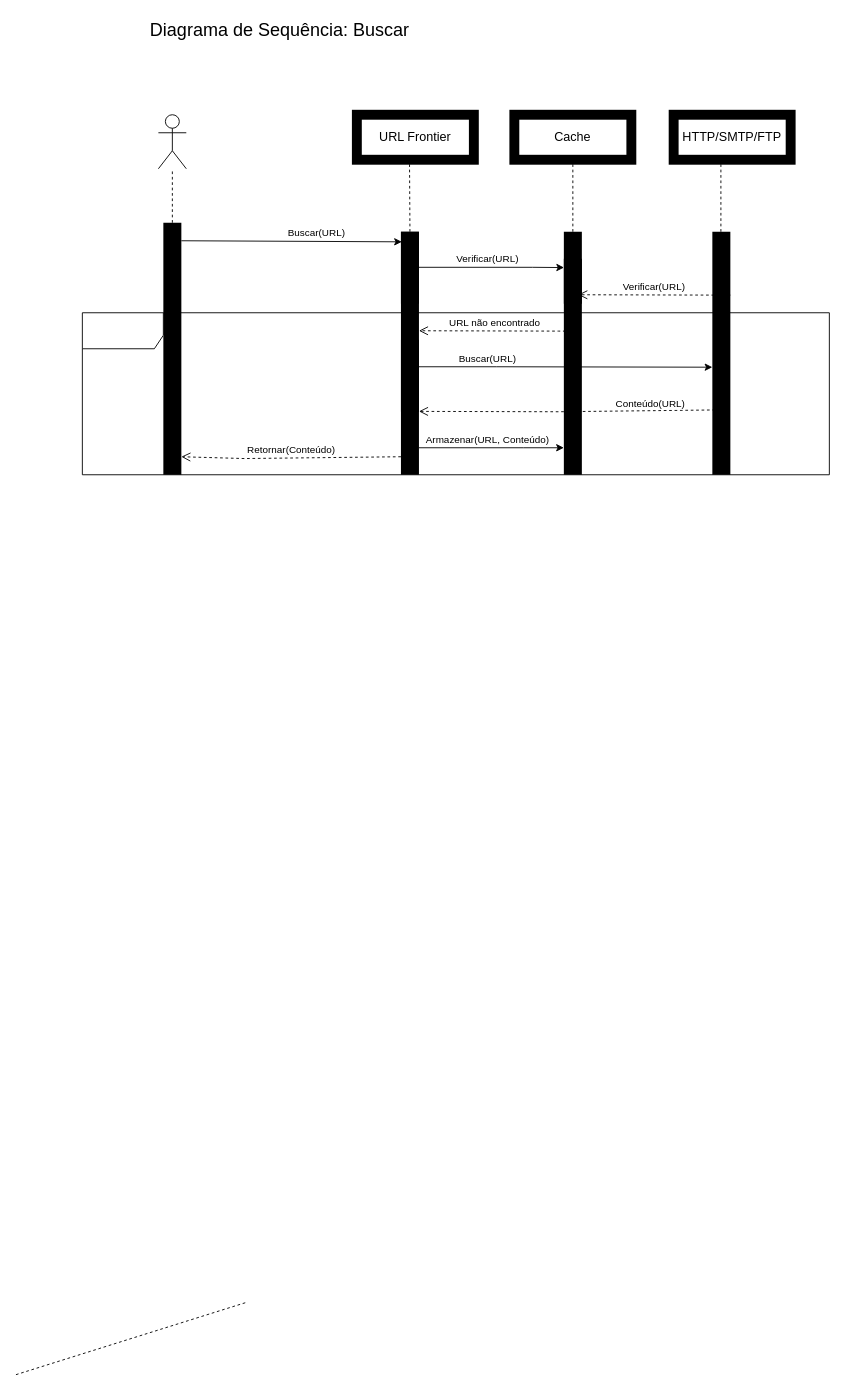
Image size: 845x1391. Some labels were removed from this diagram. The centre of each missing label's shape, as x and y in pixels:
ALT: [455,393]
Usuário: [172,141]
